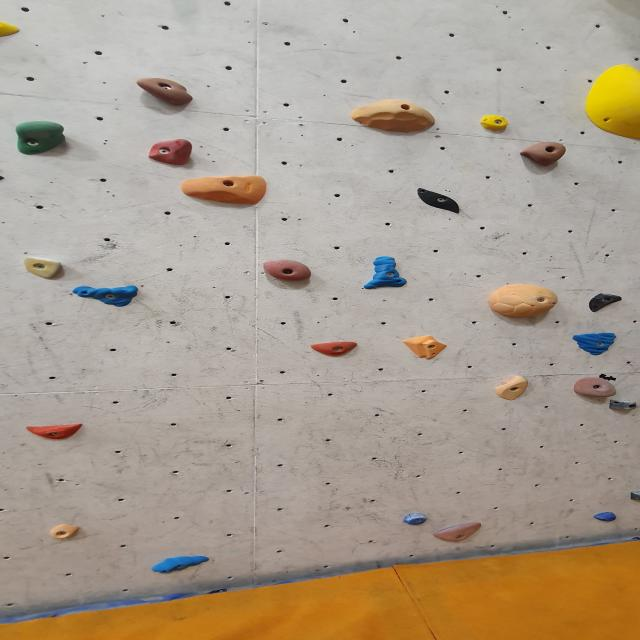Crimp: (72, 285, 142, 305), (429, 522, 484, 544), (150, 556, 212, 574), (22, 258, 68, 281), (23, 424, 87, 440), (570, 334, 618, 355), (310, 342, 362, 358), (477, 114, 512, 133), (402, 514, 430, 527), (592, 513, 618, 523), (629, 489, 640, 500)
Jug: (13, 122, 71, 156), (134, 76, 198, 105), (516, 143, 568, 169), (145, 139, 194, 166), (260, 261, 314, 283), (572, 377, 618, 399)
Pinch: (360, 252, 410, 290), (494, 378, 532, 402), (48, 523, 84, 541), (607, 400, 640, 412)
Sloper: (584, 62, 640, 140), (346, 99, 440, 134), (178, 174, 271, 206), (487, 286, 561, 321), (408, 184, 467, 214), (405, 334, 446, 360), (586, 294, 624, 312), (0, 17, 23, 43)
